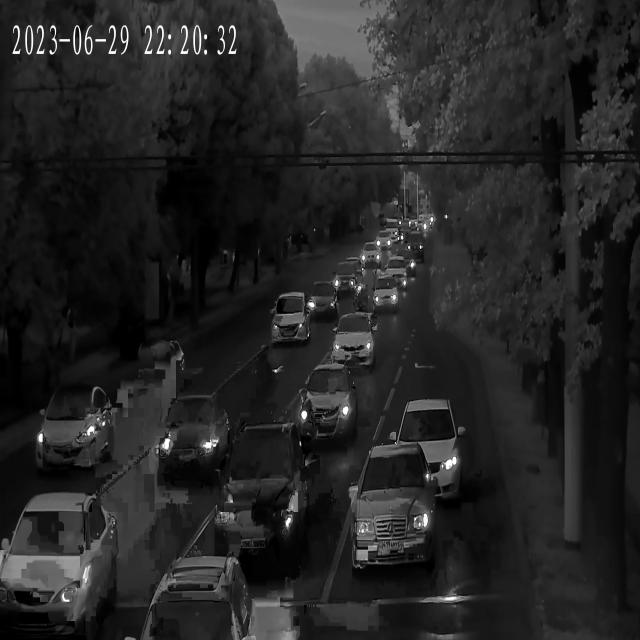Bus: (2, 490, 118, 640)
Car: (211, 422, 314, 571), (348, 443, 442, 579), (376, 395, 466, 505), (27, 387, 116, 475), (161, 393, 237, 478), (142, 587, 255, 640), (166, 550, 253, 618), (294, 364, 358, 448), (331, 314, 378, 372), (267, 290, 313, 346), (300, 282, 339, 319), (372, 274, 402, 313), (332, 264, 365, 298), (381, 258, 410, 286), (389, 253, 417, 277), (337, 260, 365, 277), (359, 244, 380, 265), (405, 235, 426, 254), (376, 235, 392, 251)
